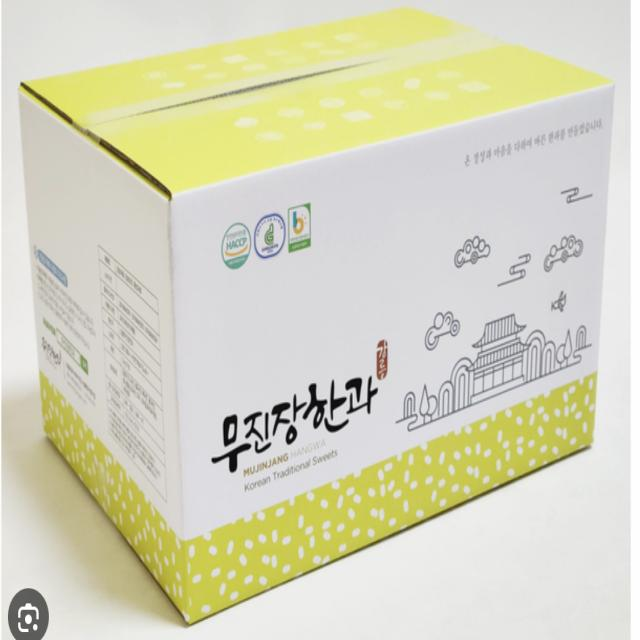biodegradable: (6, 4, 629, 626)
